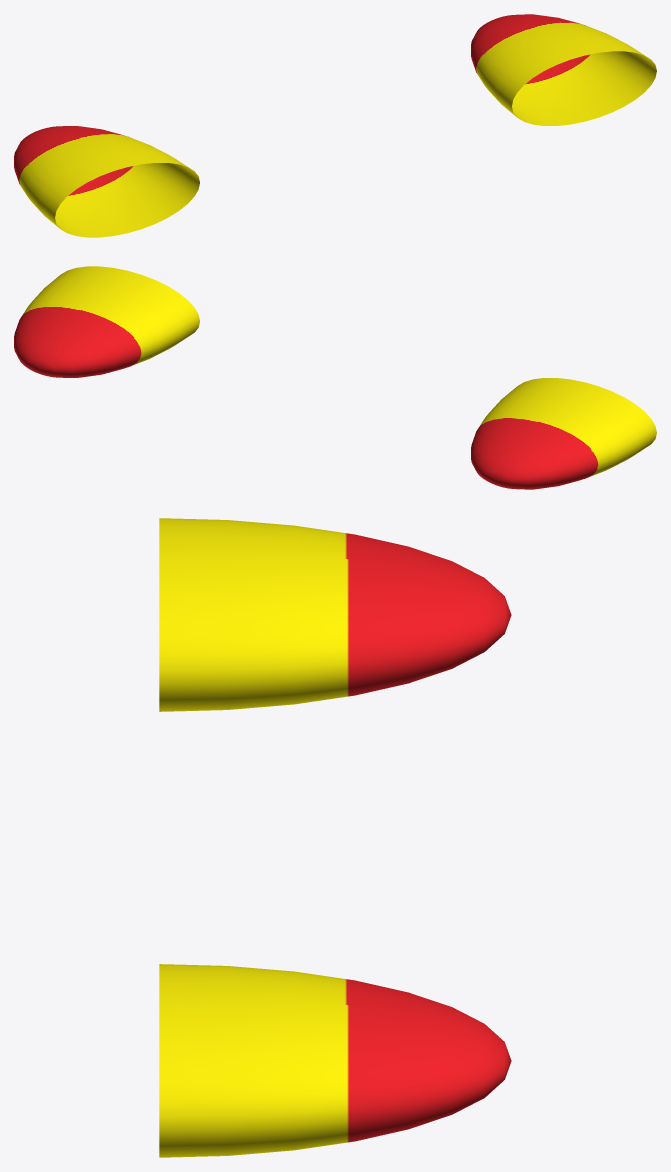
File: EngineTrail.obj
The picture shows the model from 3 angles, top to bottom: view 1: azimuth 30°, elevation 25°; view 2: azimuth 150°, elevation 25°; view 3: azimuth 270°, elevation 25°; orthographic projection. The views are drawn at different scales.
Visible parts, largest first — view 1: Sphere001, Sphere002; view 2: Sphere002, Sphere001; view 3: Sphere001, Sphere002.
Boxes of the visible parts, x1,y1,x2,y2 form: Sphere001: (471, 14, 656, 125); Sphere002: (14, 126, 199, 237); Sphere002: (471, 378, 656, 489); Sphere001: (14, 266, 199, 377); Sphere001: (159, 964, 511, 1157); Sphere002: (159, 518, 511, 711).
Bounding box in the file's own units: 231 × 24.3 × 58.61.
Materials: 1 (1 with a texture image).
